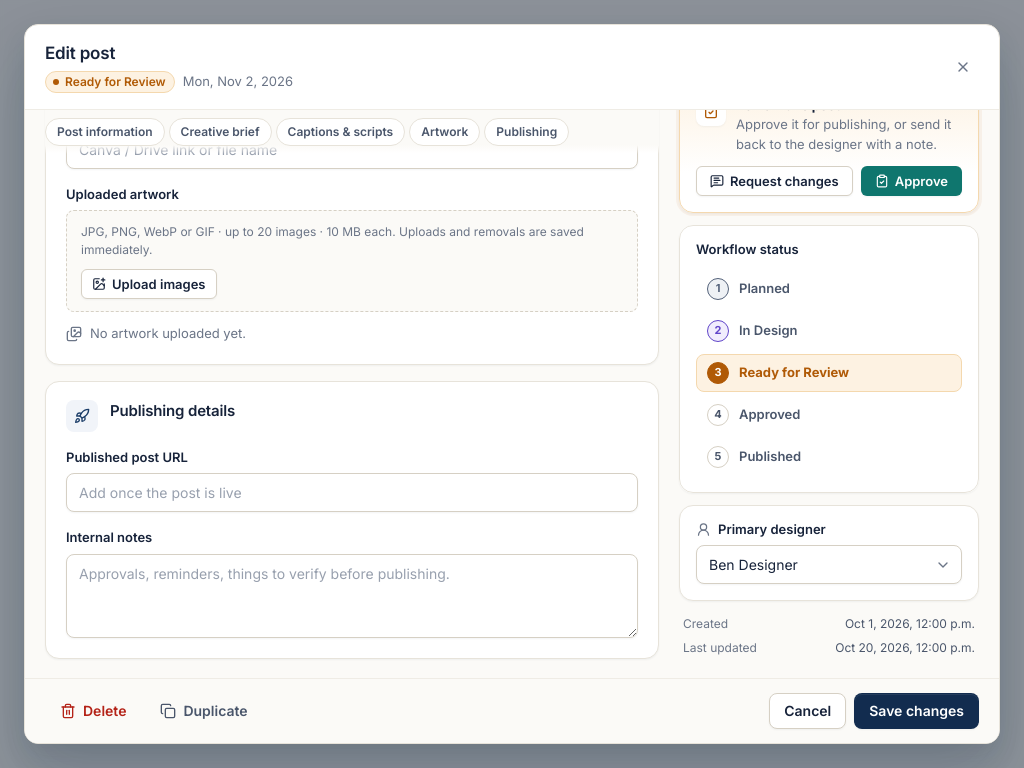
Scenario: PostEditor — admin › blocks review actions while there are unsaved edits
(page scrolled)
Type "x" into the text box labelled "Internal notes" at (352, 596), box [66,554,638,638]
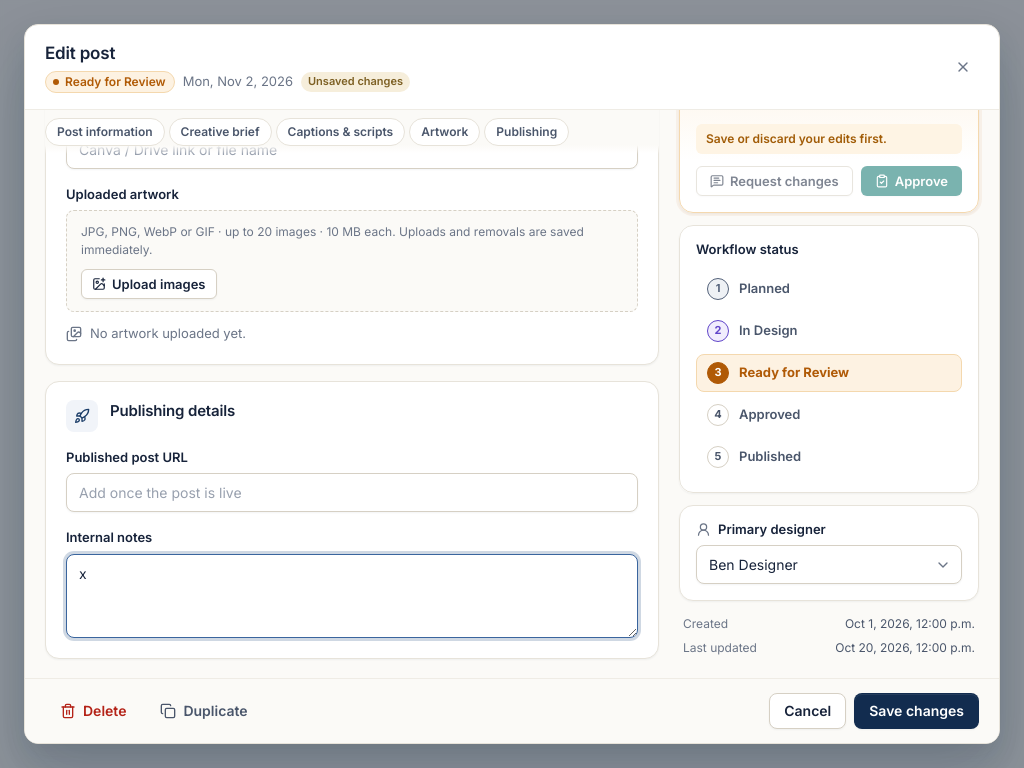
Check: the button "Approve" is disabled, box [861,166,962,196]
Check: the text "Save or discard your edits first." is shown, box [696,124,962,154]
